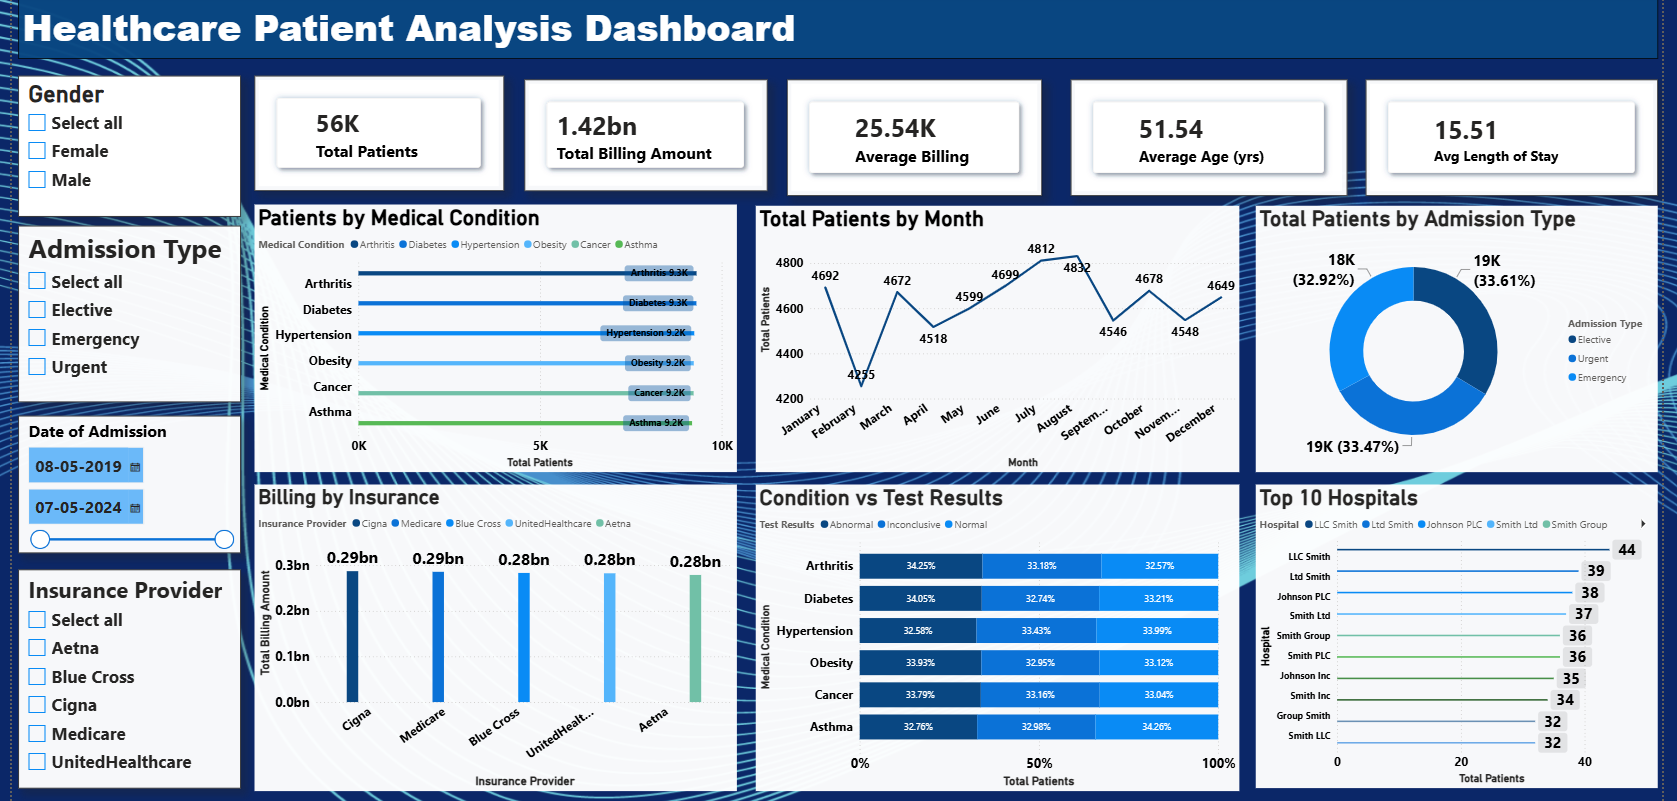

The dashboard page shown, as its layout file describes it:
{"tool":"powerbi","page":{"name":"Page 1","canvas":[2200,1112],"ordinal":0},"visuals":[{"type":"textbox","box":[8.6,0,2186.2,82.8],"z":1000},{"type":"slicer","fields":{"Values":["healthcare_dataset.Gender"]},"box":[8.3,105,296.7,188.3],"z":2000},{"type":"slicer","fields":{"Values":["healthcare_dataset.Admission Type"]},"box":[8.3,305,296.7,235],"z":3000},{"type":"slicer","fields":{"Values":["healthcare_dataset.Insurance Provider"]},"box":[8.3,763.3,296.7,291.7],"z":4000},{"type":"slicer","fields":{"Values":["healthcare_dataset.Date of Admission"]},"box":[8.3,558.3,296.7,183.3],"z":5000},{"type":"cardVisual","fields":{"Data":["healthcare_dataset.Total Patients"]},"box":[324.1,105.2,332.5,153.8],"z":6000},{"type":"cardVisual","fields":{"Data":["healthcare_dataset.Total Billing Amount"]},"box":[682.8,110.3,323.8,148.8],"z":7000},{"type":"cardVisual","fields":{"Data":["healthcare_dataset.Average Billing"]},"box":[1032.8,110.3,340,155],"z":8000},{"type":"cardVisual","fields":{"Data":["healthcare_dataset.Average Age"]},"box":[1412.1,110.3,369,155.2],"z":9000},{"type":"cardVisual","fields":{"Data":["healthcare_dataset.Avg Length of Stay"]},"box":[1805.2,110.3,389.7,155.2],"z":10000},{"type":"clusteredBarChart","title":"Patients by Medical Condition","fields":{"Category":["healthcare_dataset.Medical Condition"],"Y":["healthcare_dataset.Total Patients"],"Series":["healthcare_dataset.Medical Condition"]},"box":[324.1,275.9,643.1,356.9],"z":11000},{"type":"lineChart","fields":{"Y":["healthcare_dataset.Total Patients"],"Category":["healthcare_dataset.Date of Admission.Variation.Date Hierarchy.Month"]},"box":[991.4,277.6,644.8,355.2],"z":12000},{"type":"donutChart","fields":{"Category":["healthcare_dataset.Admission Type"],"Y":["healthcare_dataset.Total Patients"]},"box":[1658.6,277.6,536.2,355.2],"z":13000},{"type":"clusteredColumnChart","title":"Billing by Insurance","fields":{"Category":["healthcare_dataset.Insurance Provider"],"Y":["healthcare_dataset.Total Billing Amount"],"Series":["healthcare_dataset.Insurance Provider"]},"box":[324.1,650,643.1,408.6],"z":14000},{"type":"hundredPercentStackedBarChart","title":"Condition vs Test Results","fields":{"Category":["healthcare_dataset.Medical Condition"],"Series":["healthcare_dataset.Test Results"],"Y":["healthcare_dataset.Total Patients"]},"box":[991.4,650,644.8,408.6],"z":15000},{"type":"clusteredBarChart","title":"Top 10 Hospitals","fields":{"Category":["healthcare_dataset.Hospital"],"Y":["healthcare_dataset.Total Patients"],"Series":["healthcare_dataset.Hospital"]},"box":[1658.6,650,536.2,405.2],"z":19000}]}

Visuals, with their boxes in screenshot pixels (x1, y1, x2, y2):
textbox: (x1=19, y1=0, x2=1626, y2=52)
slicer - healthcare_dataset.Gender: (x1=19, y1=68, x2=237, y2=207)
slicer - healthcare_dataset.Admission Type: (x1=19, y1=215, x2=237, y2=388)
slicer - healthcare_dataset.Insurance Provider: (x1=19, y1=552, x2=237, y2=767)
slicer - healthcare_dataset.Date of Admission: (x1=19, y1=402, x2=237, y2=536)
cardVisual - healthcare_dataset.Total Patients: (x1=251, y1=69, x2=496, y2=182)
cardVisual - healthcare_dataset.Total Billing Amount: (x1=515, y1=72, x2=753, y2=182)
cardVisual - healthcare_dataset.Average Billing: (x1=772, y1=72, x2=1022, y2=186)
cardVisual - healthcare_dataset.Average Age: (x1=1051, y1=72, x2=1322, y2=186)
cardVisual - healthcare_dataset.Avg Length of Stay: (x1=1340, y1=72, x2=1626, y2=186)
"Patients by Medical Condition" clusteredBarChart: (x1=251, y1=194, x2=724, y2=456)
lineChart - healthcare_dataset.Total Patients x healthcare_dataset.Date of Admission.Variation.Date Hierarchy.Month: (x1=742, y1=195, x2=1215, y2=456)
donutChart - healthcare_dataset.Admission Type x healthcare_dataset.Total Patients: (x1=1232, y1=195, x2=1626, y2=456)
"Billing by Insurance" clusteredColumnChart: (x1=251, y1=469, x2=724, y2=769)
"Condition vs Test Results" hundredPercentStackedBarChart: (x1=742, y1=469, x2=1215, y2=769)
"Top 10 Hospitals" clusteredBarChart: (x1=1232, y1=469, x2=1626, y2=767)
